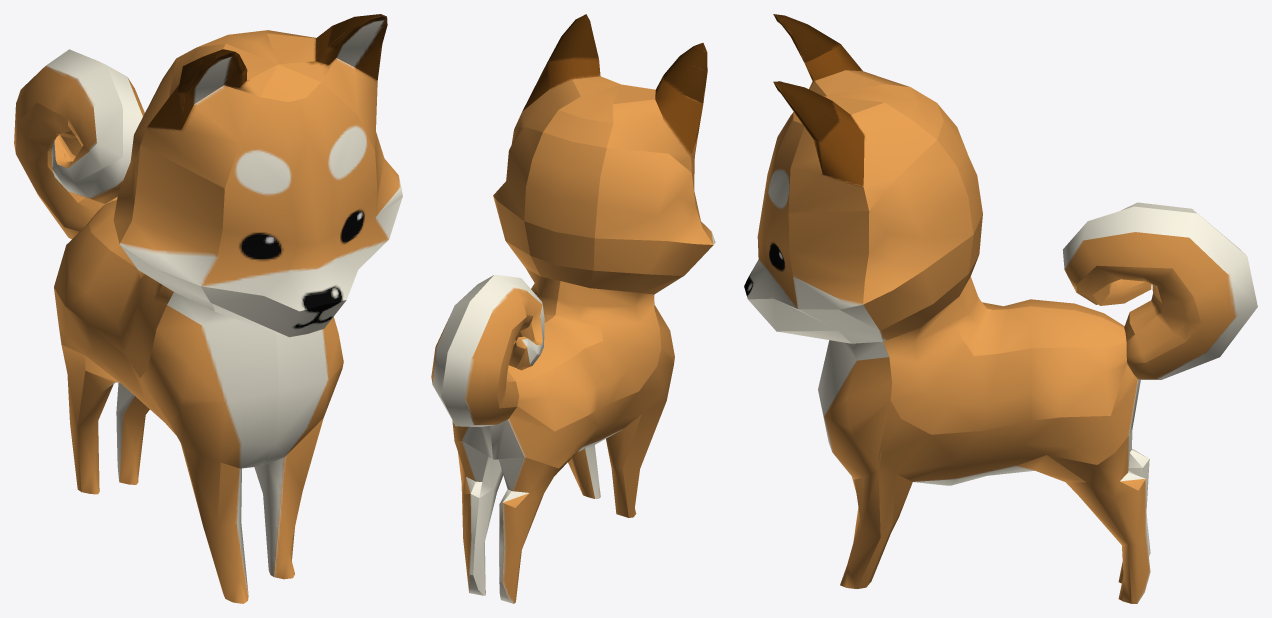
File: tailWagging_frame9.obj
3 renders of one model, left to right at view 1: azimuth 30°, elevation 25°; view 2: azimuth 150°, elevation 25°; view 3: azimuth 270°, elevation 25°, orthographic. The views are drawn at different scales.
Parts seen in each view (by area): view 1: newRigging:BodzL1; view 2: newRigging:BodzL1; view 3: newRigging:BodzL1.
Boxes of the visible parts, <box> form: newRigging:BodzL1: <box>14,14,402,603</box>; newRigging:BodzL1: <box>431,14,715,603</box>; newRigging:BodzL1: <box>744,14,1257,603</box>.
Size of the model in its own units: 3.91 by 7.95 by 6.81.
Materials: 1 (1 with a texture image).
